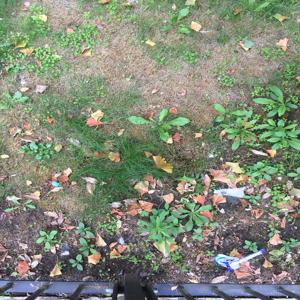plastic: (214, 186, 254, 201), (210, 250, 240, 269)
plastic bottle: (231, 246, 271, 274)
